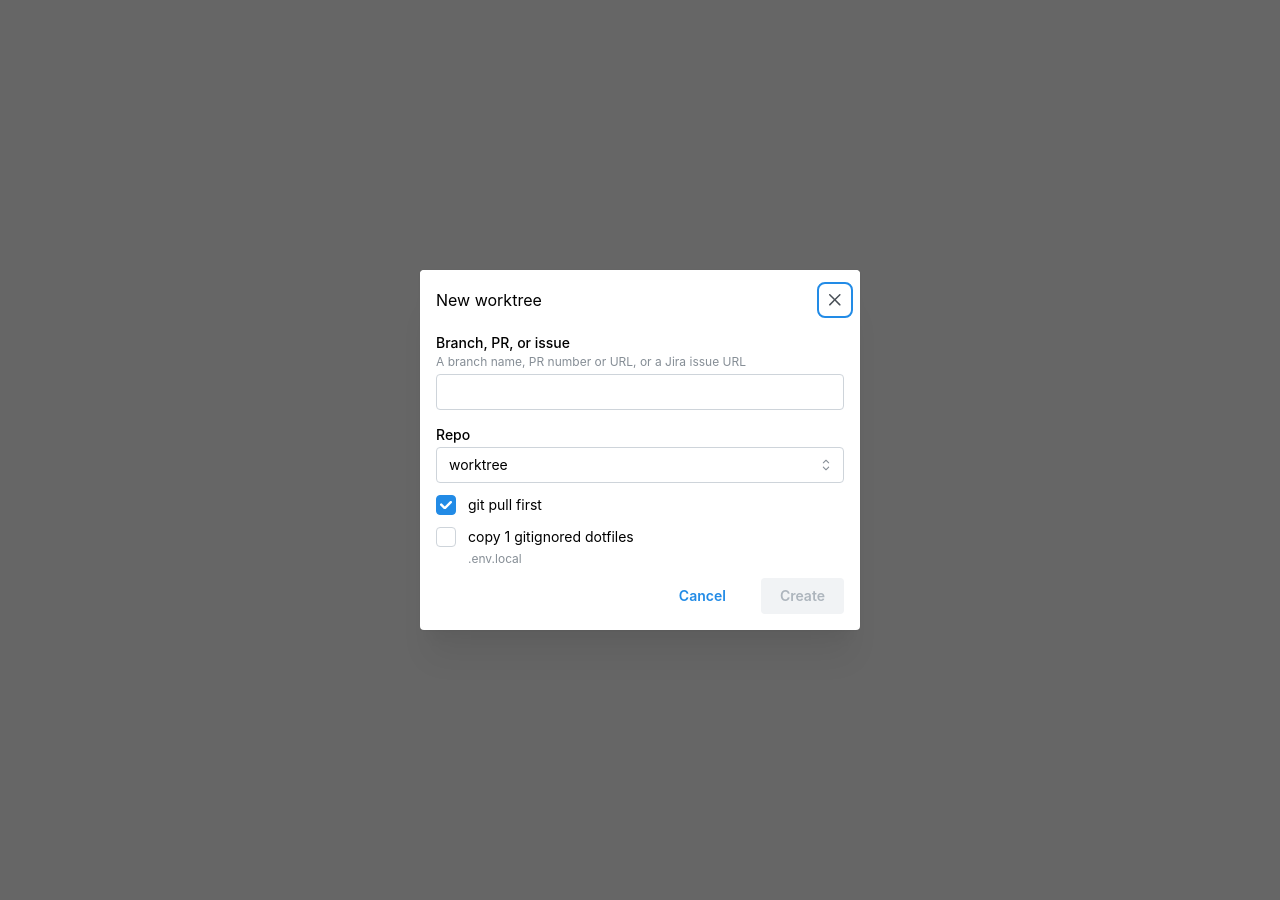
Scenario: NewWorktreeModal › shows live steps
Expected: the field showing "worktree" is shown, [436,447,844,483]
In the field labelled "Branch, PR, or issue": (640, 392) [436,374,844,410], type "my-feature"
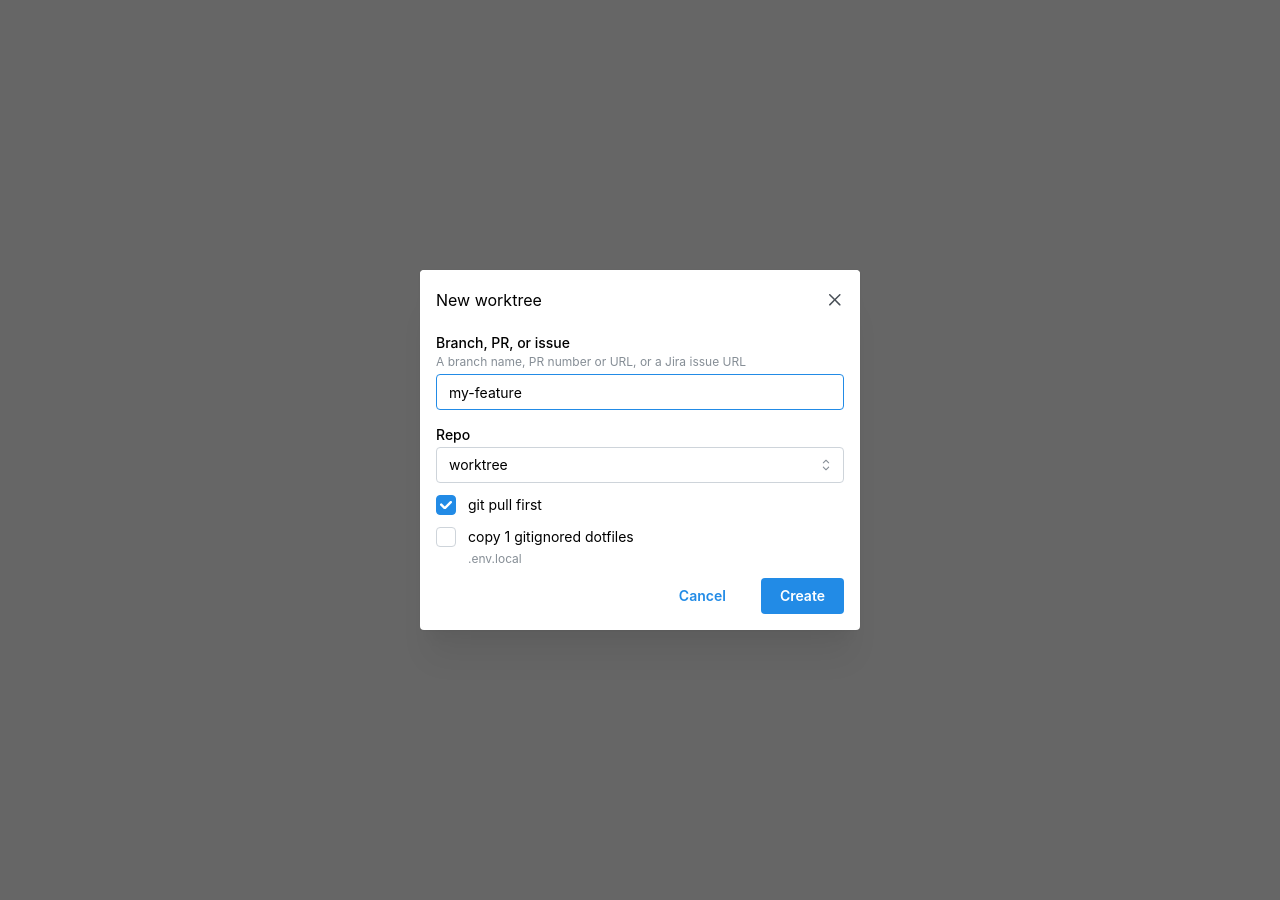
Click the button "Create": click(802, 596) [761,578,844,614]
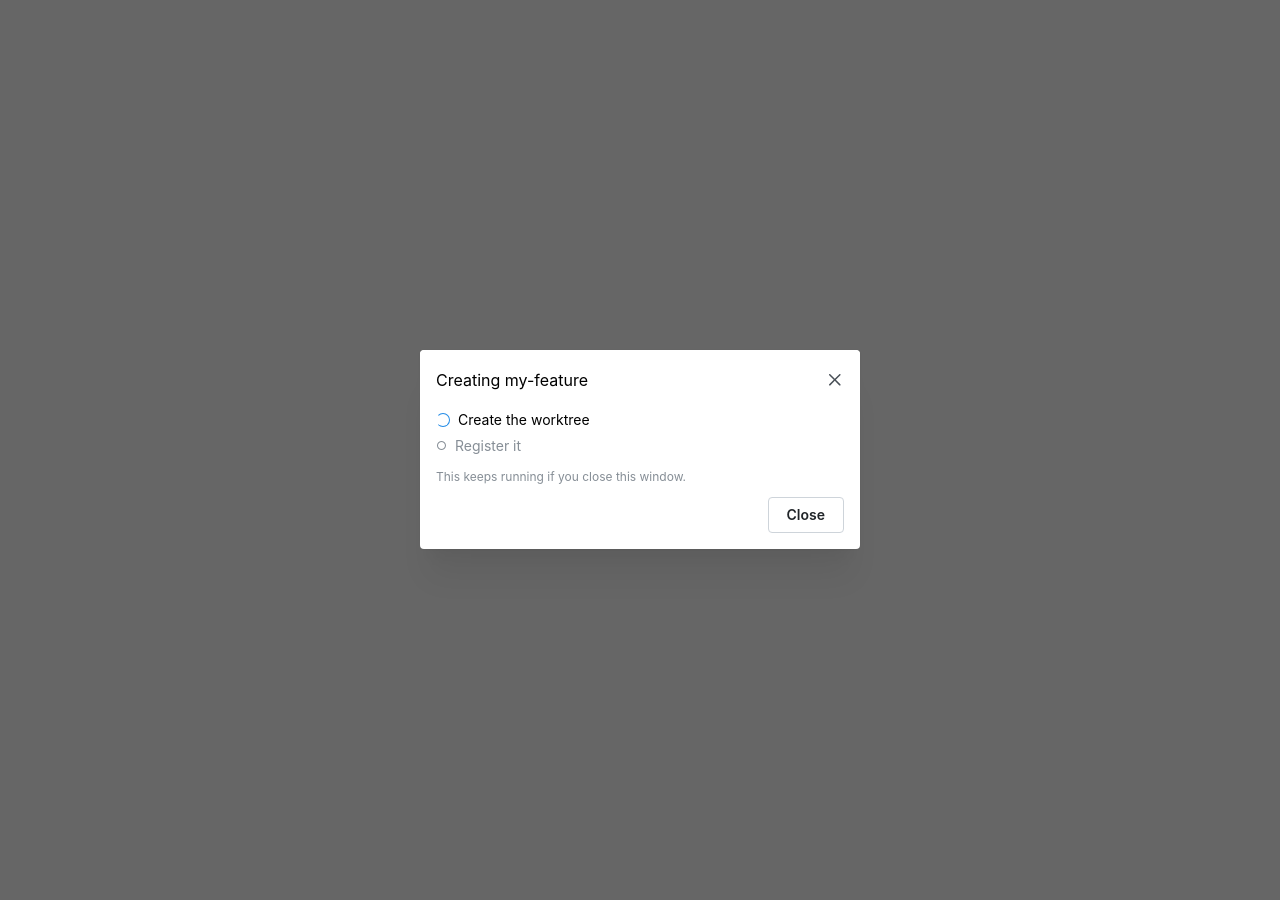
Result: the element named "In progress" is shown at [436,413,450,427]
Result: the heading "Creating my-feature" is shown at [436,372,588,388]
Result: the label labelled "Branch, PR, or issue" is gone
